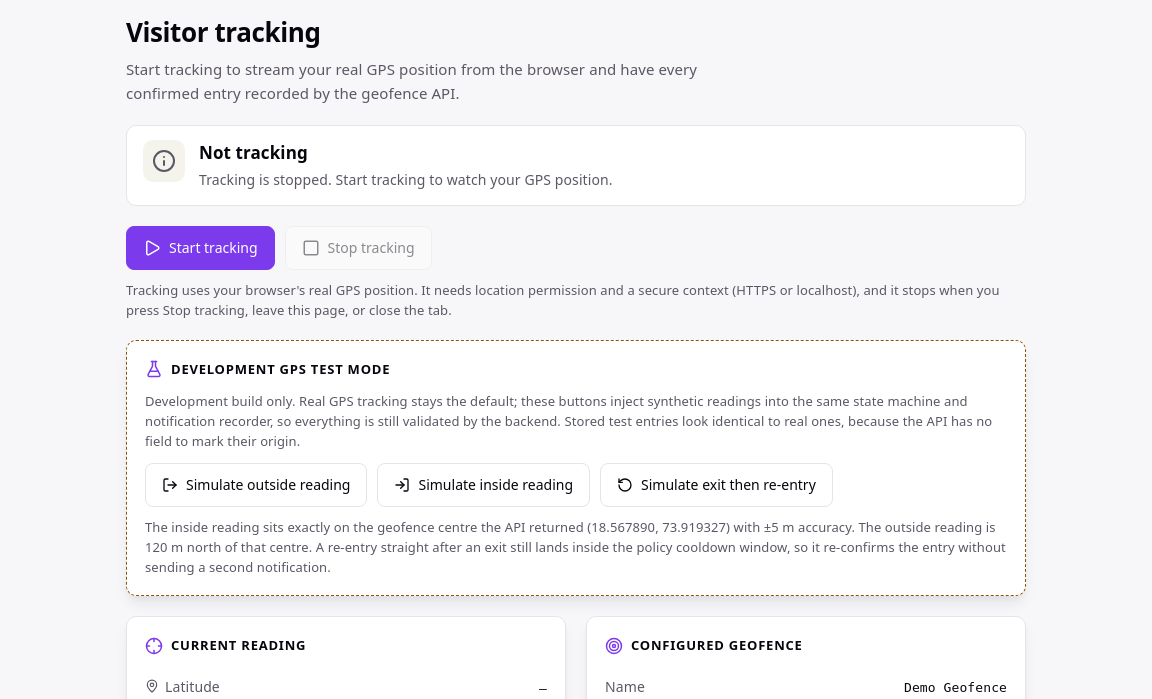
it: VisitorTrackingPage › releases the watcher when tracking is stopped
What coordinates should you click on to do the following:
click the button "Start tracking"
I would click on:
 (200, 248)
Its box is [126,226,275,270].
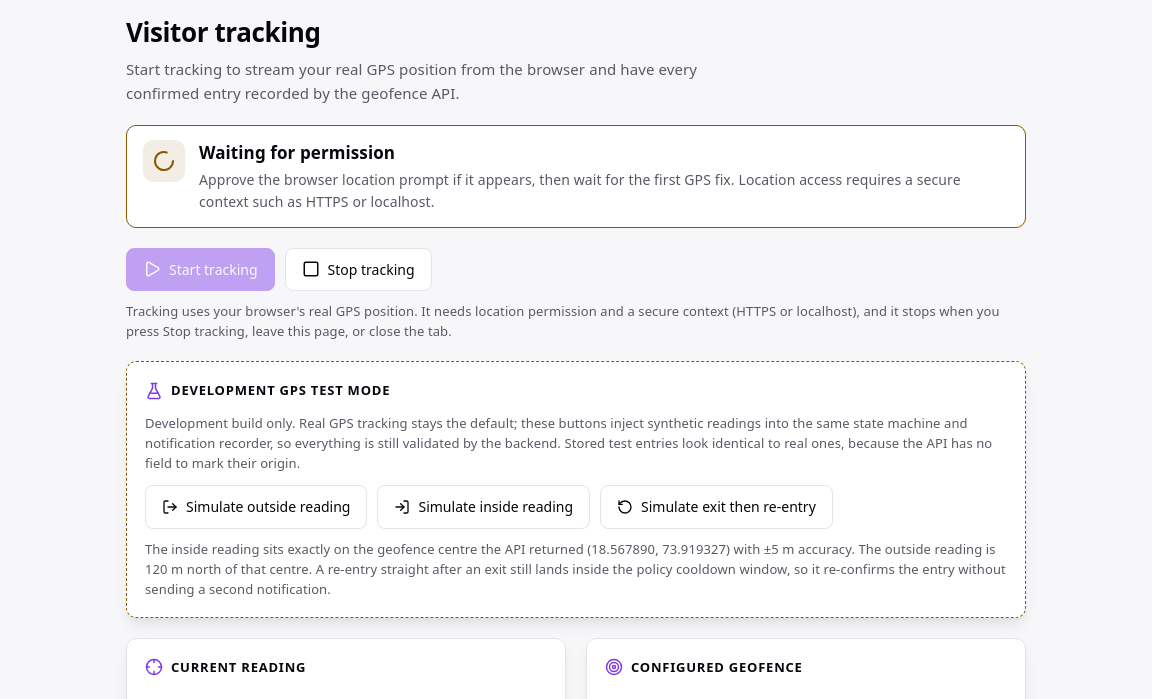
What coordinates should you click on to do the following:
click the button "Stop tracking"
I would click on:
 (358, 269)
Its box is [285,248,432,291].
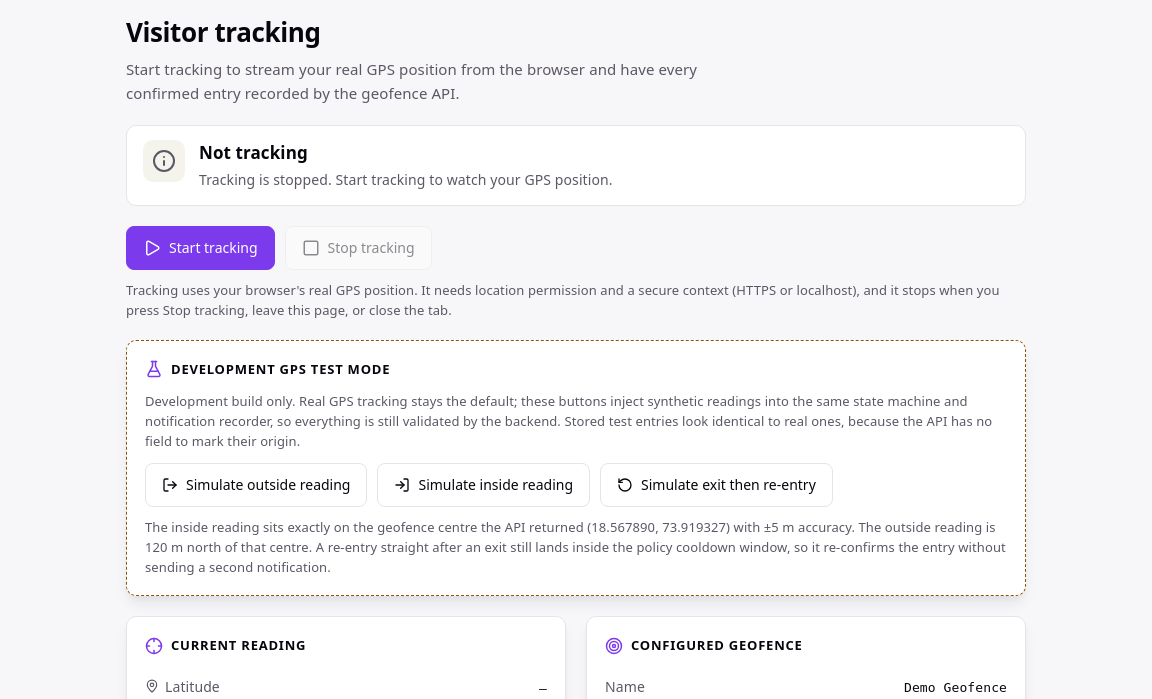
Expected: the text "Tracking is stopped" is shown, [199,170,613,189]
